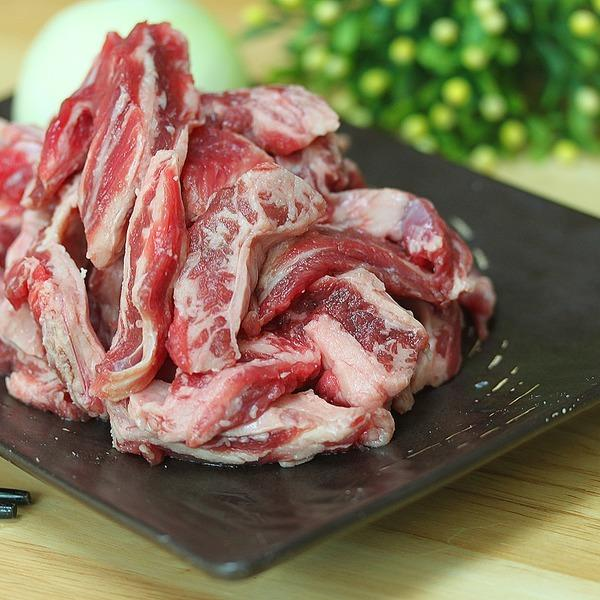beef: (8, 77, 426, 389)
